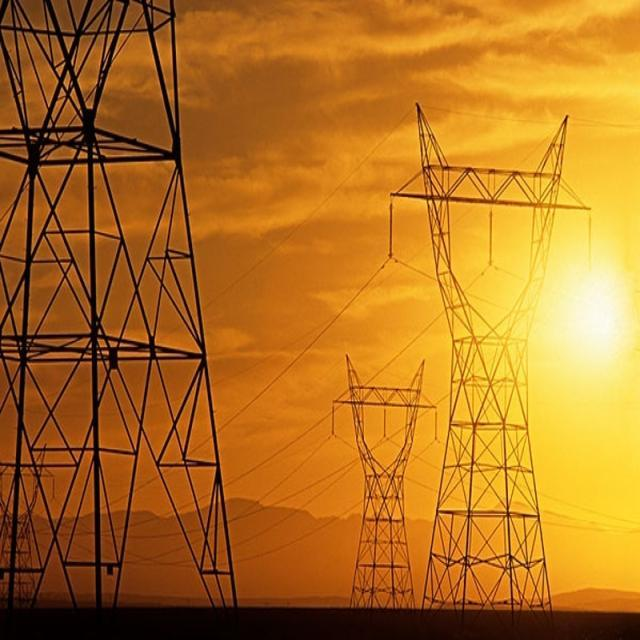non-critical vegetation: (19, 13, 222, 609), (402, 102, 574, 587), (318, 341, 440, 620)
